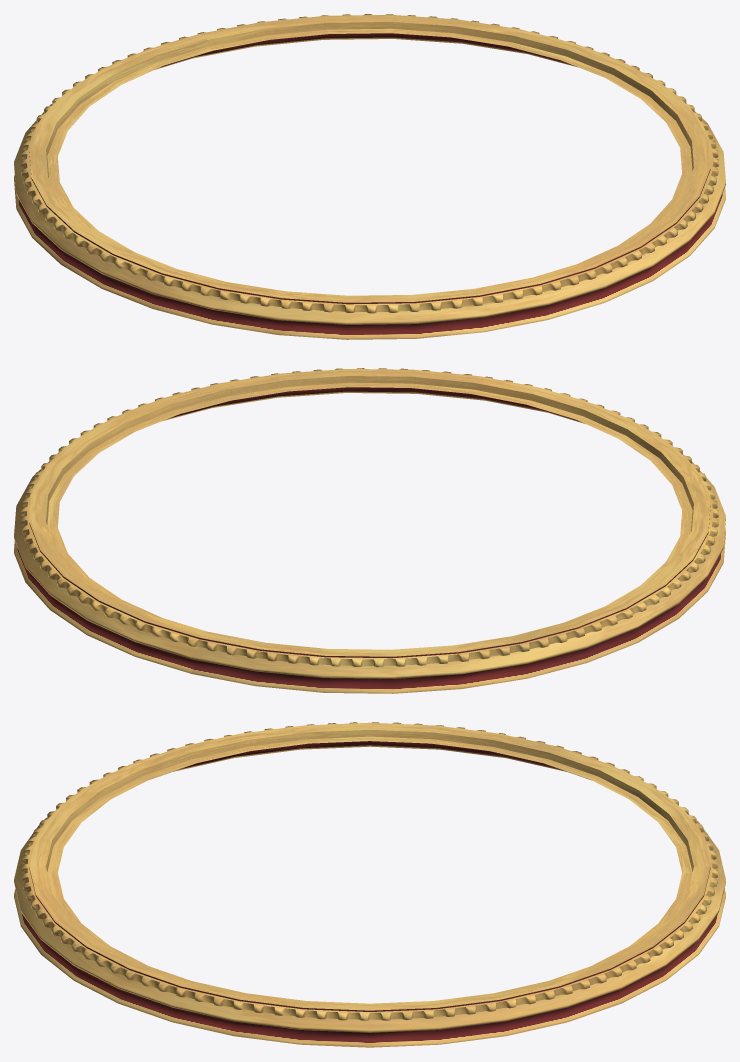
The picture shows the model from 3 angles, top to bottom: view 1: azimuth 30°, elevation 25°; view 2: azimuth 150°, elevation 25°; view 3: azimuth 270°, elevation 25°; orthographic projection.
Parts seen in each view (by area): view 1: Base; view 2: Base; view 3: Base.
Boxes of the visible parts, bbox=[...] form: Base: bbox=[14, 14, 725, 339]; Base: bbox=[14, 368, 725, 693]; Base: bbox=[14, 722, 725, 1047].
Bounding box in the file's own units: 41.48 × 1.96 × 41.48.
